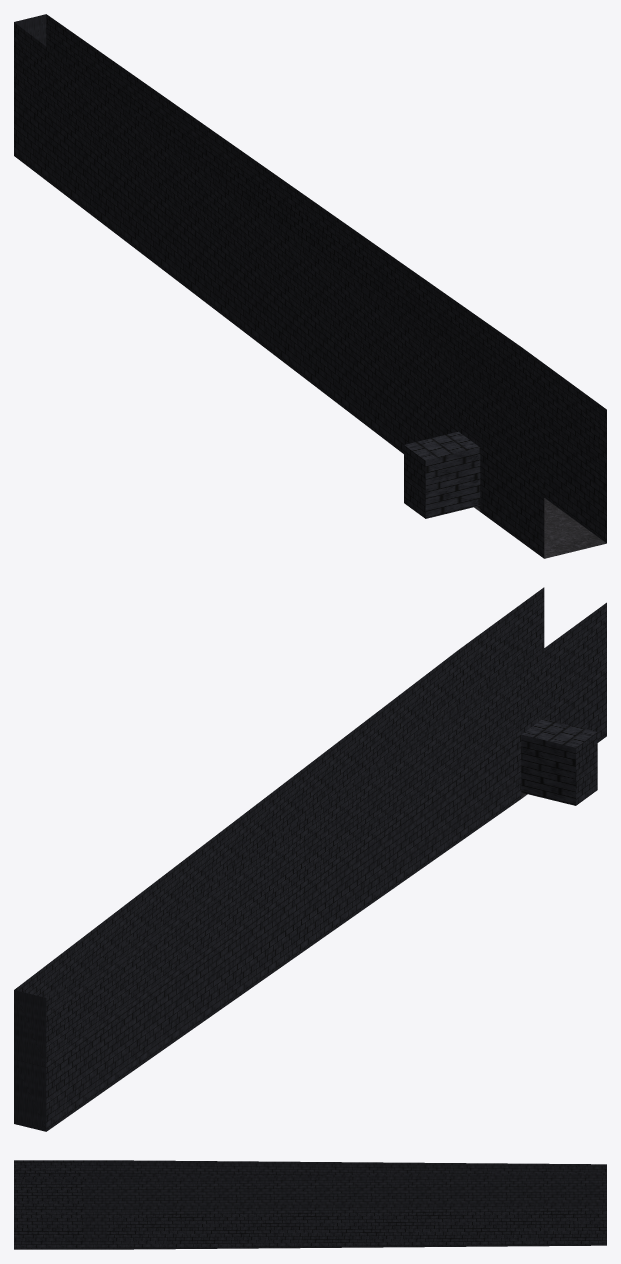
File: TitleScreen_Model_20251120.fbx
The picture shows the model from 3 angles, top to bottom: view 1: azimuth 30°, elevation 25°; view 2: azimuth 150°, elevation 25°; view 3: azimuth 270°, elevation 25°; orthographic projection. The views are drawn at different scales.
Parts seen in each view (by area): view 1: Cube; view 2: Cube; view 3: Cube.
Boxes of the visible parts, left/top/right/bottom form: Cube: left=14, top=14, right=606, bottom=558; Cube: left=14, top=587, right=606, bottom=1131; Cube: left=14, top=1160, right=606, bottom=1249.
Size of the model in its own units: 1229 by 1341 by 9900.
